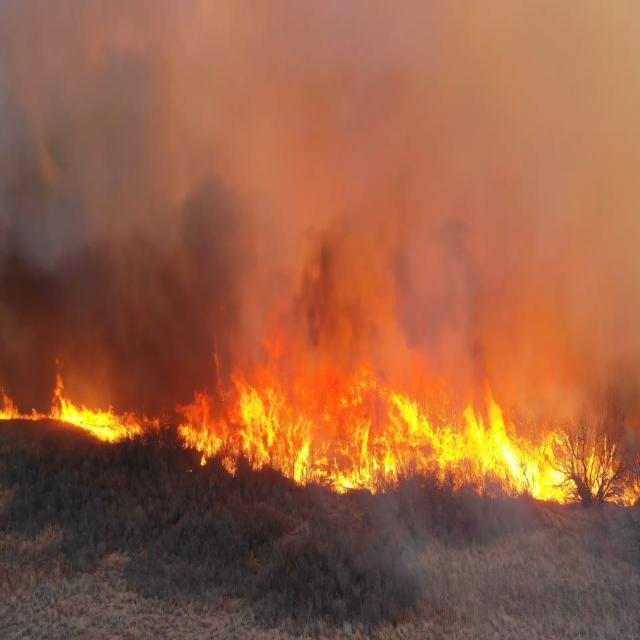Fire: (280, 346, 396, 490), (392, 378, 515, 487), (192, 343, 277, 469), (518, 424, 618, 507), (51, 374, 131, 447)
Smoke: (3, 79, 173, 363), (405, 131, 521, 354), (295, 239, 355, 346)
